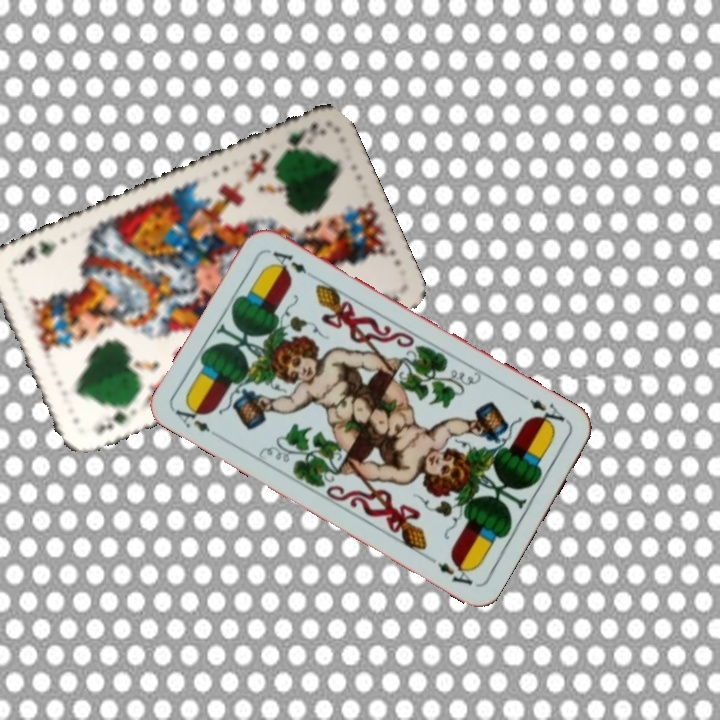EA: (517, 390, 571, 431), (171, 400, 213, 435)
GK: (276, 118, 328, 156), (92, 399, 134, 437)
